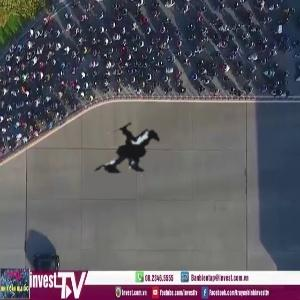drone: (22, 47, 205, 230)
